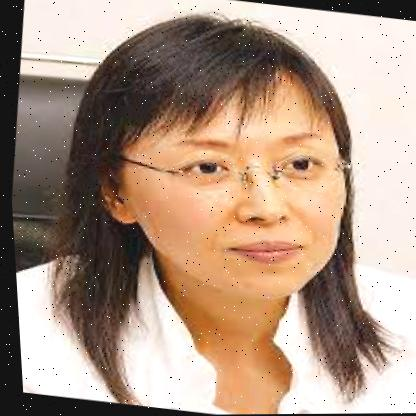person: (45, 0, 382, 320)
